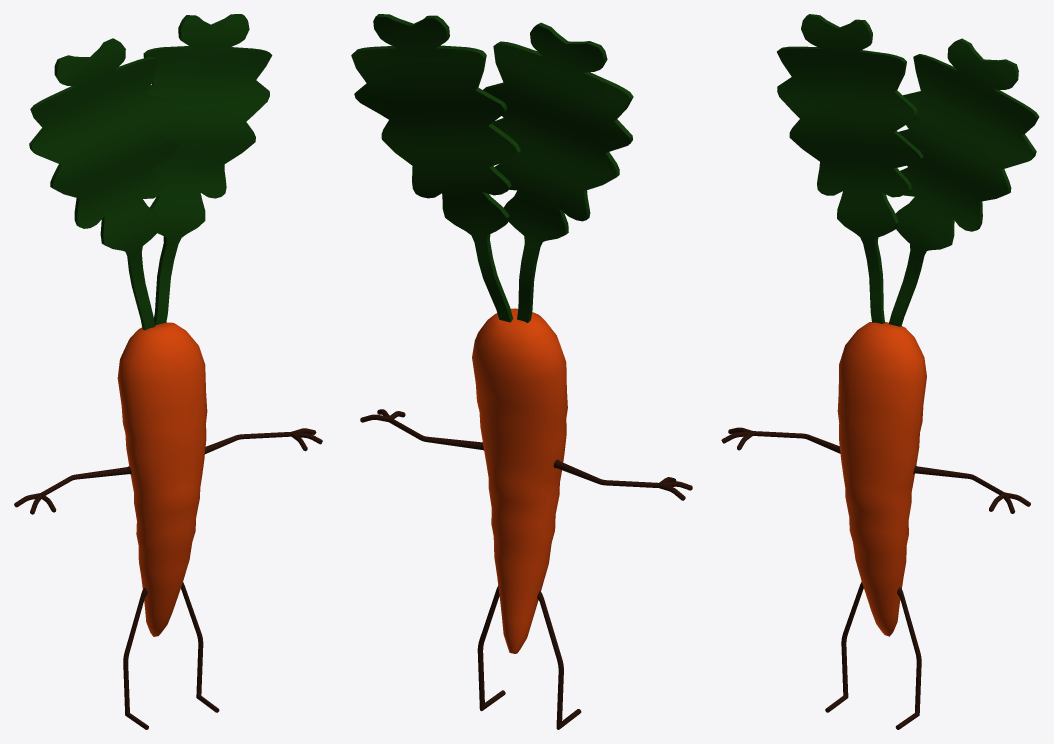
File: mrkva_bez_face.fbx
3 renders of one model, left to right at view 1: azimuth 30°, elevation 25°; view 2: azimuth 150°, elevation 25°; view 3: azimuth 330°, elevation 25°, orthographic. The views are drawn at different scales.
Parts seen in each view (by area): view 1: mrkva karakter; view 2: mrkva karakter; view 3: mrkva karakter.
Part boxes in pixels (x1,y1,x2,y2): mrkva karakter: [14, 14, 322, 729]; mrkva karakter: [351, 14, 692, 729]; mrkva karakter: [721, 14, 1039, 729].
Bounding box in the file's own units: 134 × 282 × 36.52.
